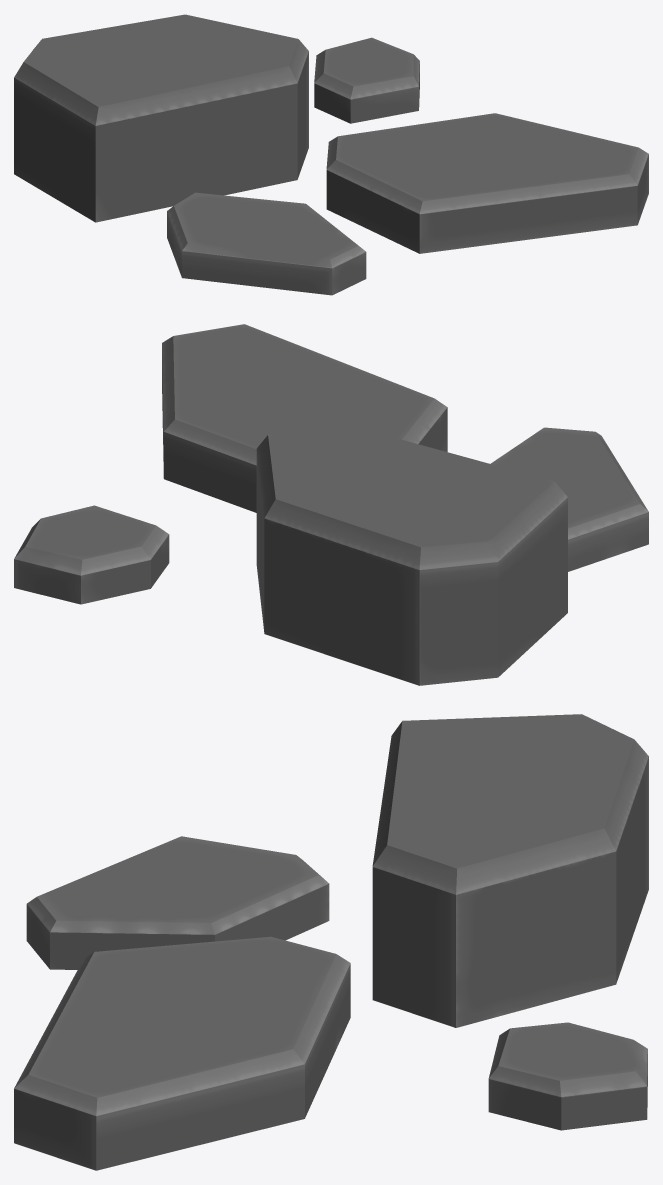
Rendered from rocks.fbx.
3 views of the same model, one above another, from view 1: azimuth 30°, elevation 25°; view 2: azimuth 150°, elevation 25°; view 3: azimuth 270°, elevation 25° (orthographic). The views are drawn at different scales.
Visible parts, largest first — view 1: Rock2, Rock1, Rock, Rock3; view 2: Rock2, Rock1, Rock3, Rock; view 3: Rock2, Rock1, Rock, Rock3.
Boxes of the visible parts, <box> form: Rock2: <box>14,14,308,222</box>; Rock1: <box>326,113,648,253</box>; Rock: <box>167,192,366,295</box>; Rock3: <box>314,37,419,123</box>; Rock2: <box>256,423,567,685</box>; Rock1: <box>162,324,447,512</box>; Rock3: <box>14,505,169,604</box>; Rock: <box>490,427,648,571</box>; Rock2: <box>372,714,648,1027</box>; Rock1: <box>14,936,350,1170</box>; Rock: <box>26,836,329,969</box>; Rock3: <box>488,1022,647,1130</box>.
Bounding box in the file's own units: 12.41 × 2.91 × 10.82.
